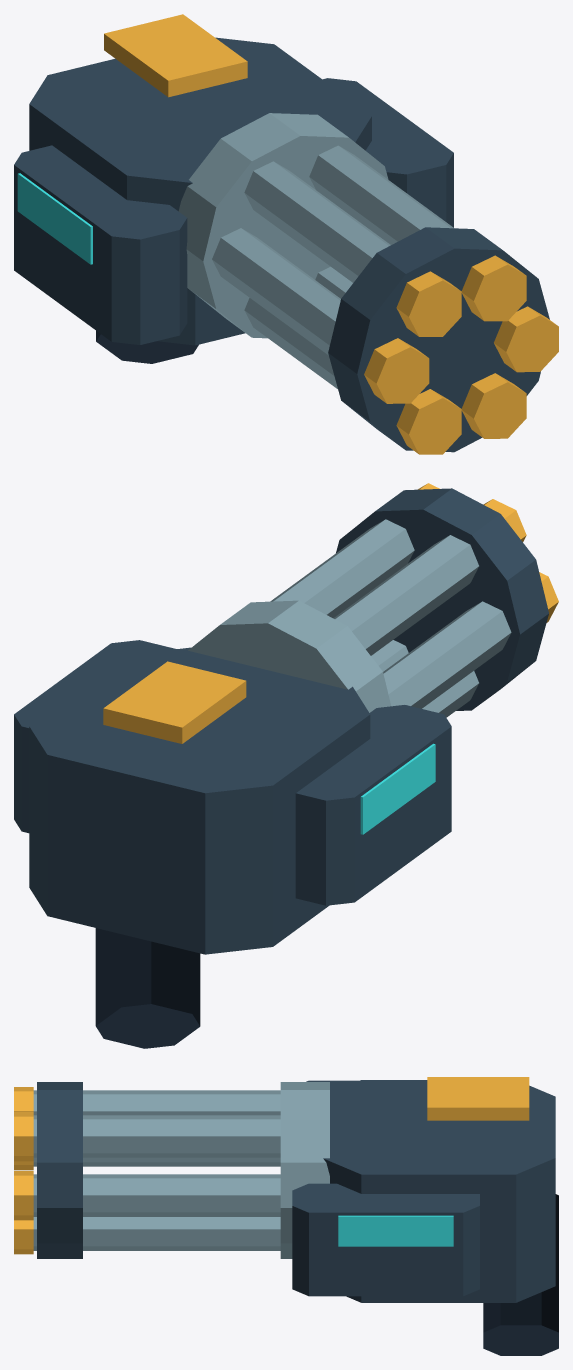
File: gun_minigun.obj
The picture shows the model from 3 angles, top to bottom: view 1: azimuth 30°, elevation 25°; view 2: azimuth 150°, elevation 25°; view 3: azimuth 270°, elevation 25°; orthographic projection. The views are drawn at different scales.
Size of the model in its own units: 0.963 by 0.84 by 1.66.
